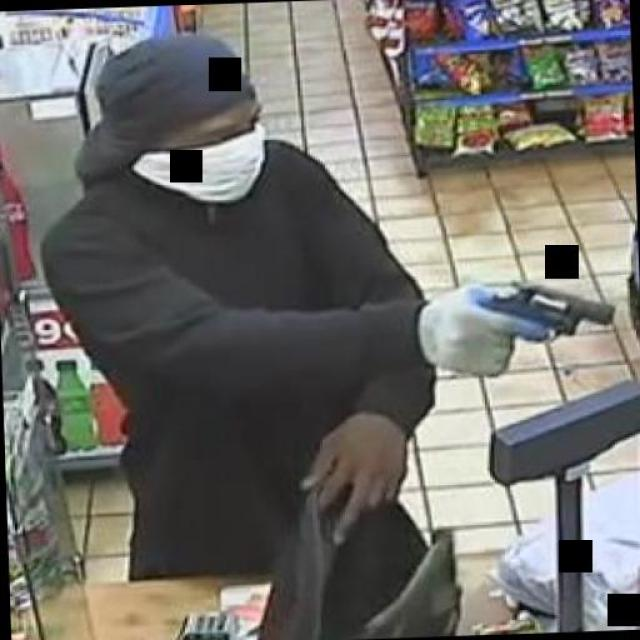gun: (460, 273, 618, 377)
